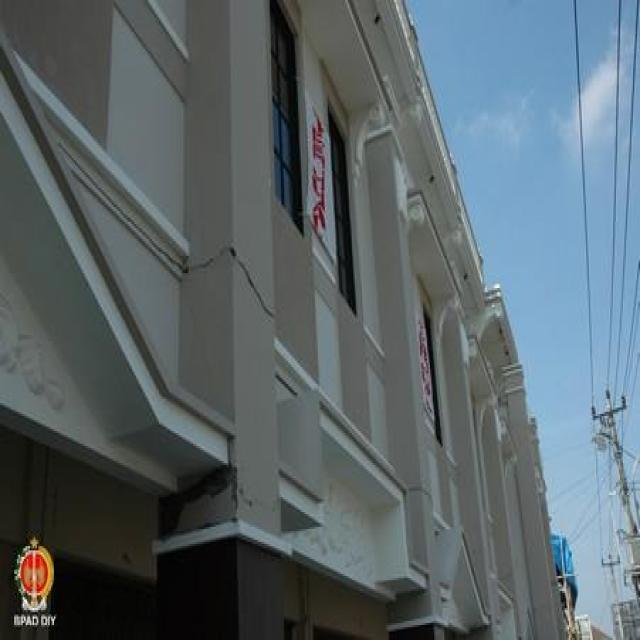damage: (186, 230, 287, 338), (237, 478, 297, 549), (408, 478, 448, 527)
